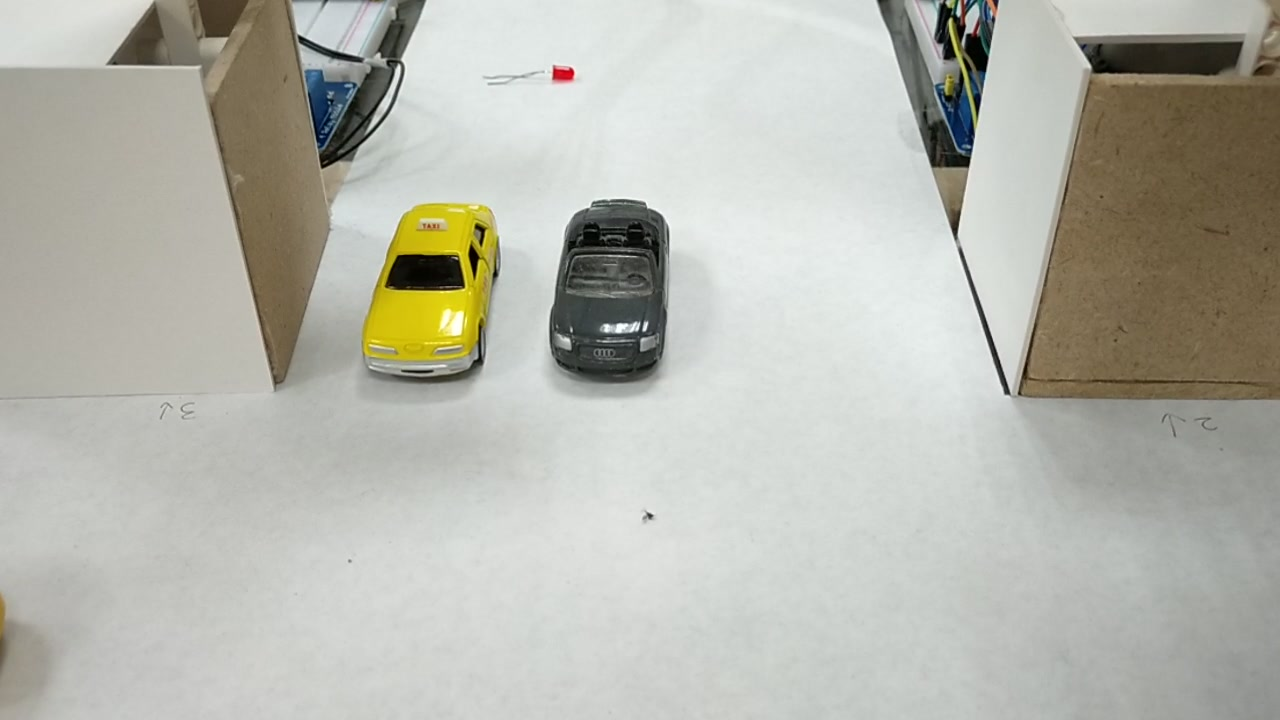car: (362, 203, 496, 376), (555, 201, 661, 375)
